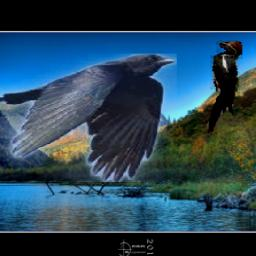Crow: (0, 54, 177, 182)
Woodpecker: (208, 40, 243, 133)
